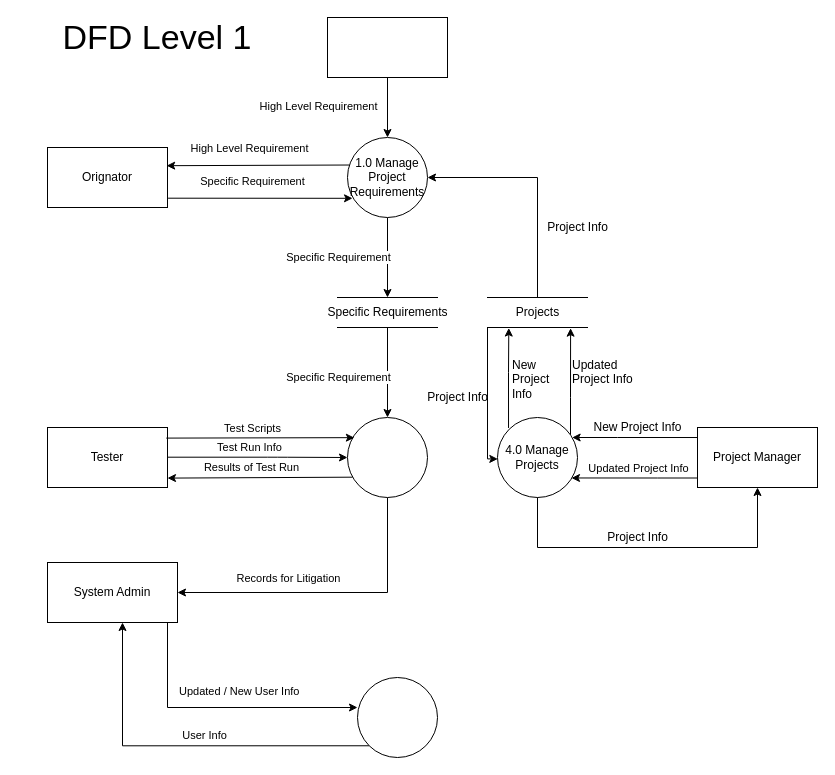
This 835x775 diagram has some shape labels left out. The shapes that lost their labels are listed below. From the top down, each one's centre as x and y in pixels, then its label:
At point 387,47: "Customer".
At point 387,457: "2.0 Manage Test".
At point 397,717: "3.0 Manage Users".
